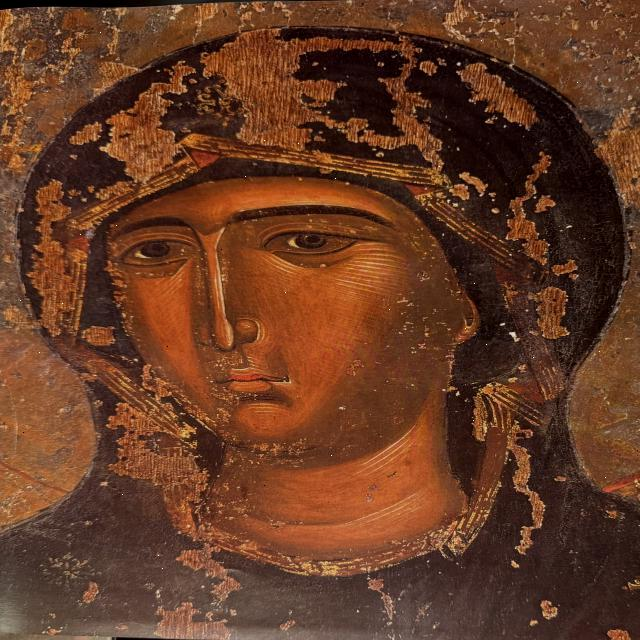mary: (20, 24, 628, 638)
